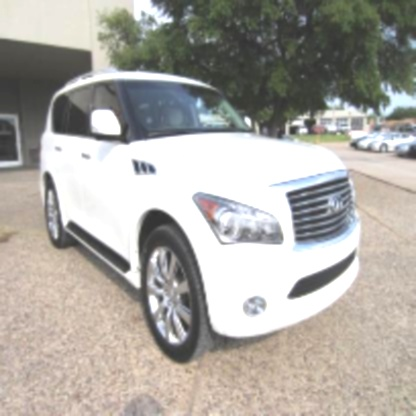Vehicle: (41, 69, 362, 365)
